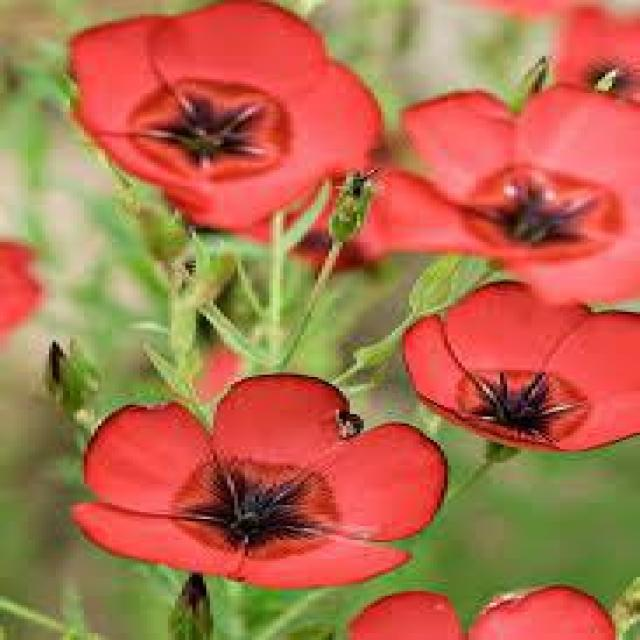other: (44, 21, 630, 270), (69, 366, 432, 579), (379, 276, 633, 447), (330, 578, 628, 631)
